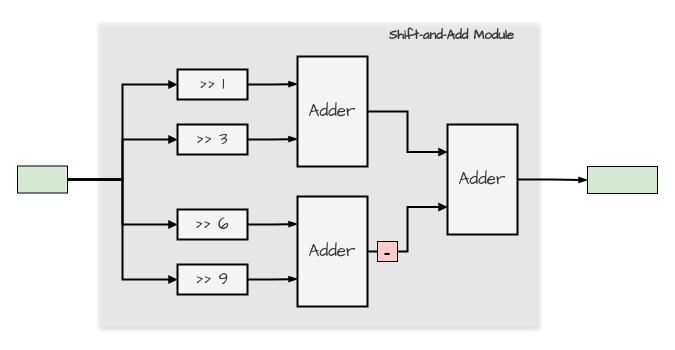
This 675x350 diagram has some shape labels left out. The shapes that lost their labels are listed below. From the top down, each one's centre as x and y in pixels, then its label:
the point at 42,179: X[N]
the point at 622,180: Magnitude
